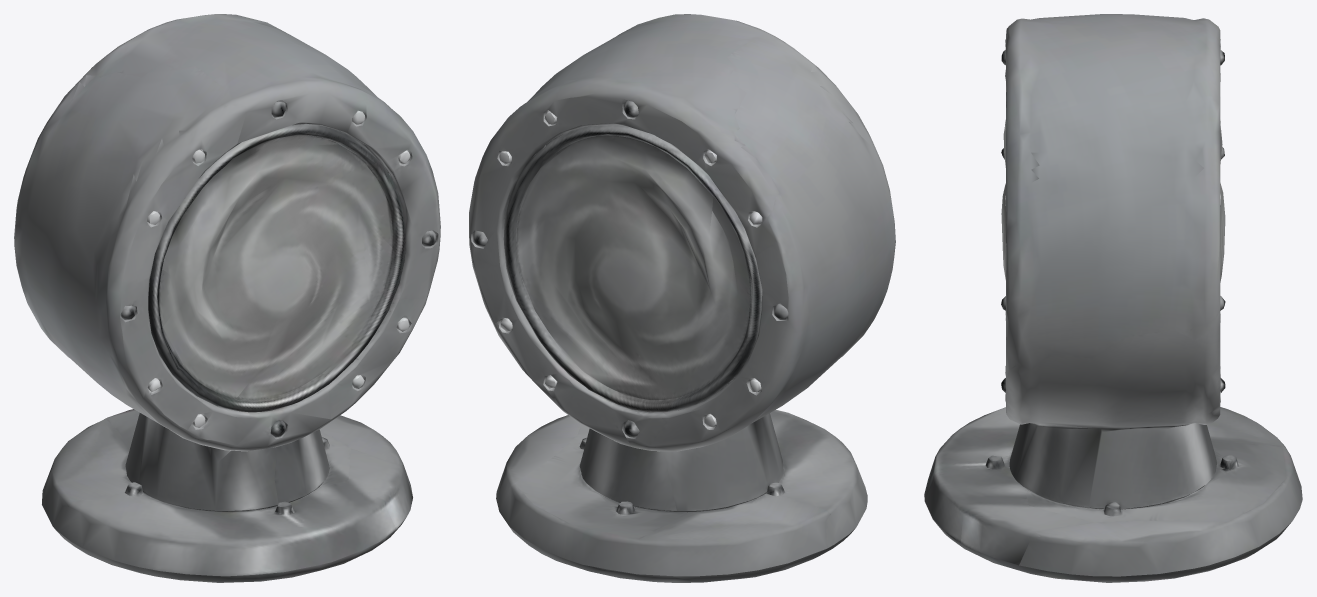
File: m2OrbLauncherPortal.glb
The picture shows the model from 3 angles, left to right: view 1: azimuth 30°, elevation 25°; view 2: azimuth 150°, elevation 25°; view 3: azimuth 270°, elevation 25°; orthographic projection. The views are drawn at different scales.
Visible parts, largest first — view 1: model; view 2: model; view 3: model.
Boxes of the visible parts, <box> form: model: <box>14,14,440,582</box>; model: <box>469,14,895,582</box>; model: <box>924,14,1302,582</box>.
Size of the model in its own units: 1.48 by 1.9 by 1.37.
Materials: 1 (1 with a texture image).
